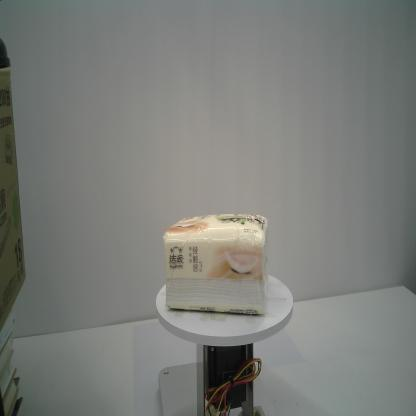Tissue: (164, 213, 268, 315)
